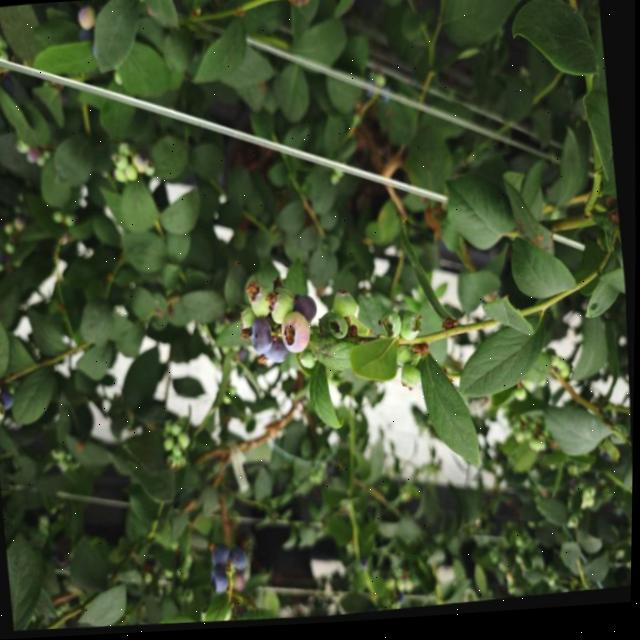RipeBlueBerry: (247, 319, 278, 361), (207, 567, 232, 600), (210, 545, 235, 571), (232, 550, 253, 576)
Semi-RipeBlueBerry: (281, 313, 315, 362)
UnripeBlueBerry: (247, 285, 277, 323)
